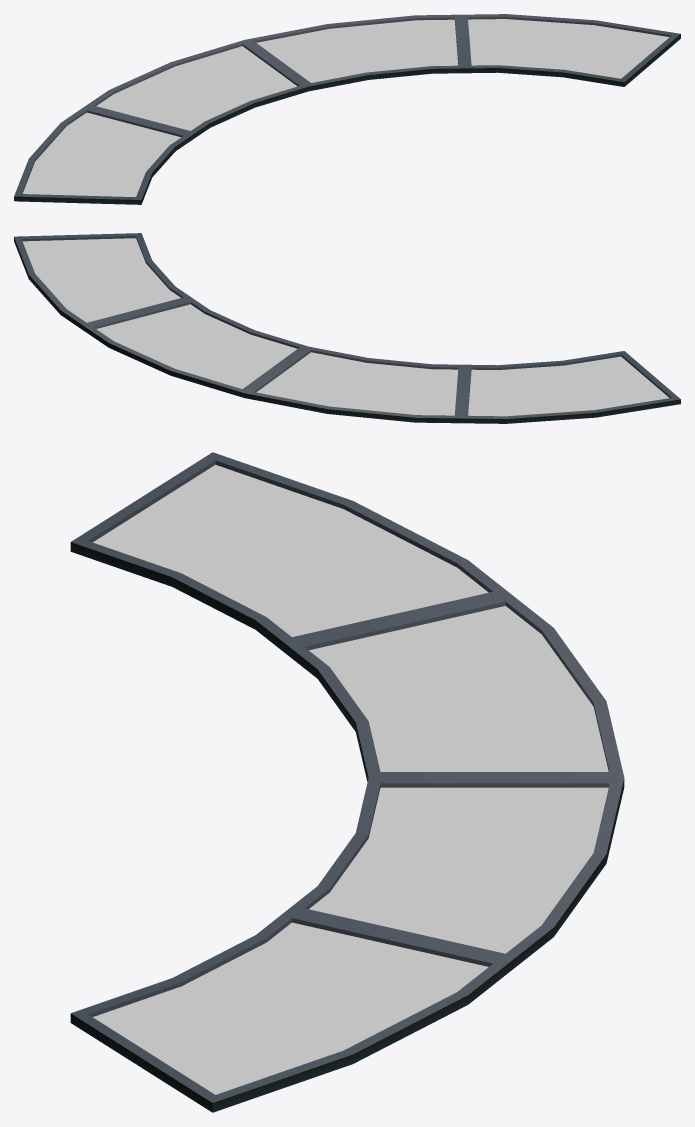
Rendered from voting_zone.glb.
3 views of the same model, one above another, from view 1: azimuth 30°, elevation 25°; view 2: azimuth 150°, elevation 25°; view 3: azimuth 270°, elevation 25° (orthographic). The views are drawn at different scales.
Visible parts, largest first — view 1: voting_zone; view 2: voting_zone; view 3: voting_zone.
Boxes of the visible parts, x1,y1,x2,y2 form: voting_zone: [14, 14, 680, 204]; voting_zone: [14, 233, 680, 423]; voting_zone: [70, 452, 624, 1112].
Bounding box in the file's own units: 10.84 × 0.0749 × 3.9.
Materials: 2 (1 with a texture image).
